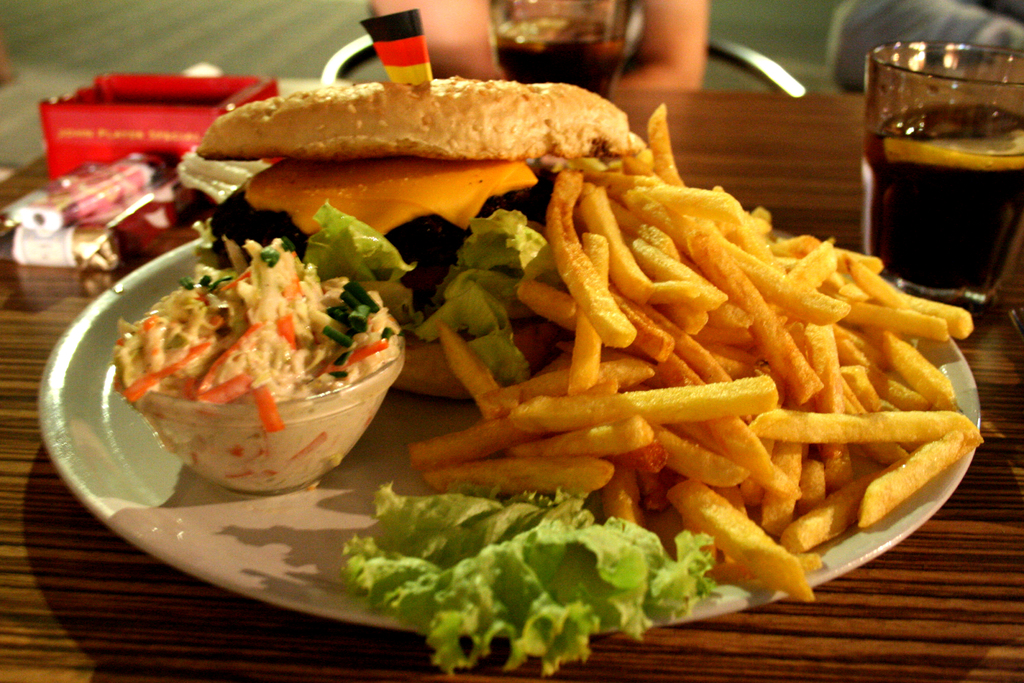French fries: (423, 108, 980, 579)
